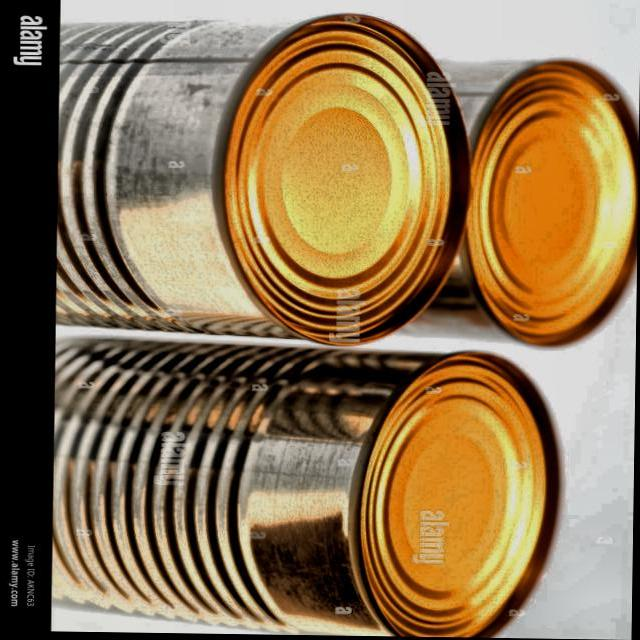Aluminum Can: (51, 336, 569, 639), (52, 8, 480, 349), (359, 56, 639, 352)
